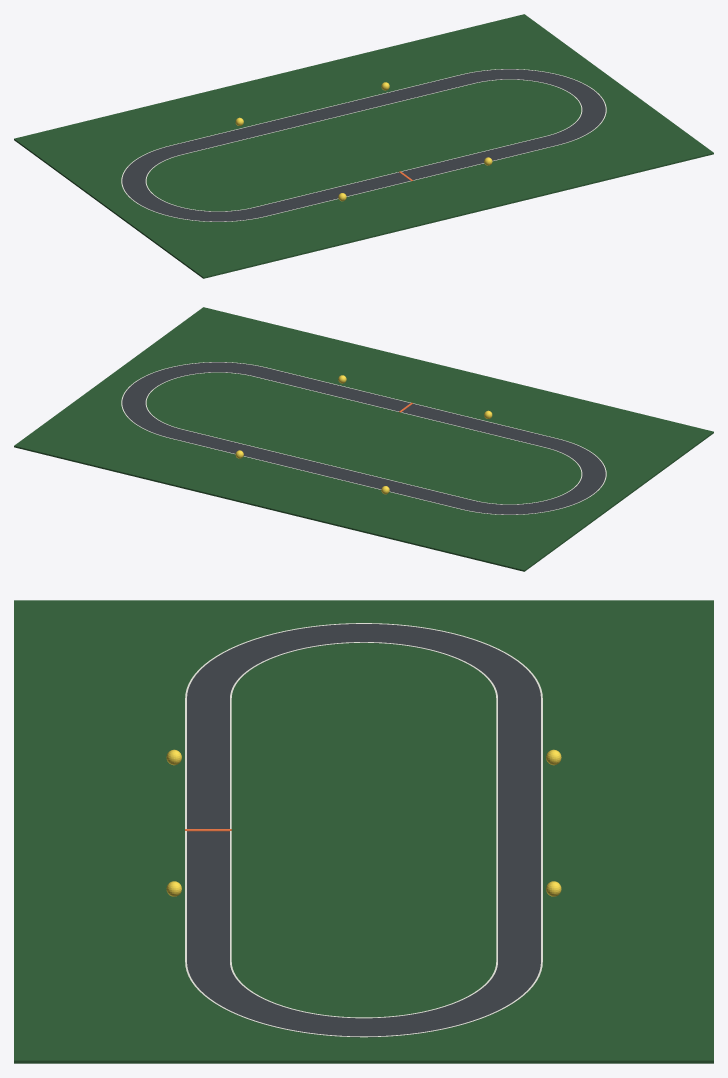
The model's file is arrietty_3m_track.glb.
3 views of the same model, one above another, from view 1: azimuth 30°, elevation 25°; view 2: azimuth 150°, elevation 25°; view 3: azimuth 270°, elevation 25° (orthographic). The views are drawn at different scales.
Parts seen in each view (by area): view 1: Ground, Track 3m, Track Outer Edge, Track Inner Edge; view 2: Ground, Track 3m, Track Outer Edge, Track Inner Edge; view 3: Ground, Track 3m, Track Outer Edge, Track Inner Edge.
Part boxes in pixels (left/top/right/bottom): Ground: left=14, top=14, right=713, bottom=278; Track 3m: left=122, top=69, right=605, bottom=221; Track Outer Edge: left=121, top=69, right=606, bottom=221; Track Inner Edge: left=145, top=79, right=582, bottom=211; Ground: left=14, top=307, right=713, bottom=571; Track 3m: left=122, top=362, right=605, bottom=514; Track Outer Edge: left=121, top=362, right=606, bottom=514; Track Inner Edge: left=145, top=372, right=582, bottom=504; Ground: left=14, top=600, right=713, bottom=1063; Track 3m: left=187, top=624, right=540, bottom=1037; Track Outer Edge: left=185, top=623, right=542, bottom=1037; Track Inner Edge: left=230, top=642, right=497, bottom=1018.
Size of the model in its own units: 70 by 1.22 by 45.
